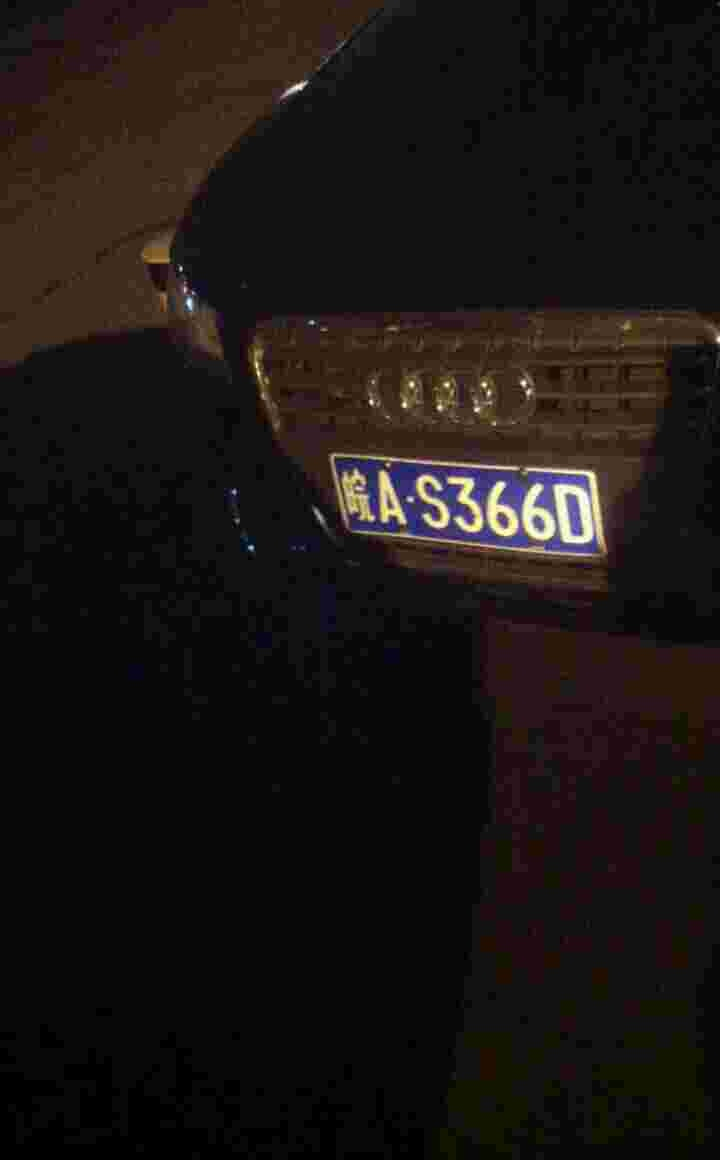license_plate: (337, 463, 603, 557)
